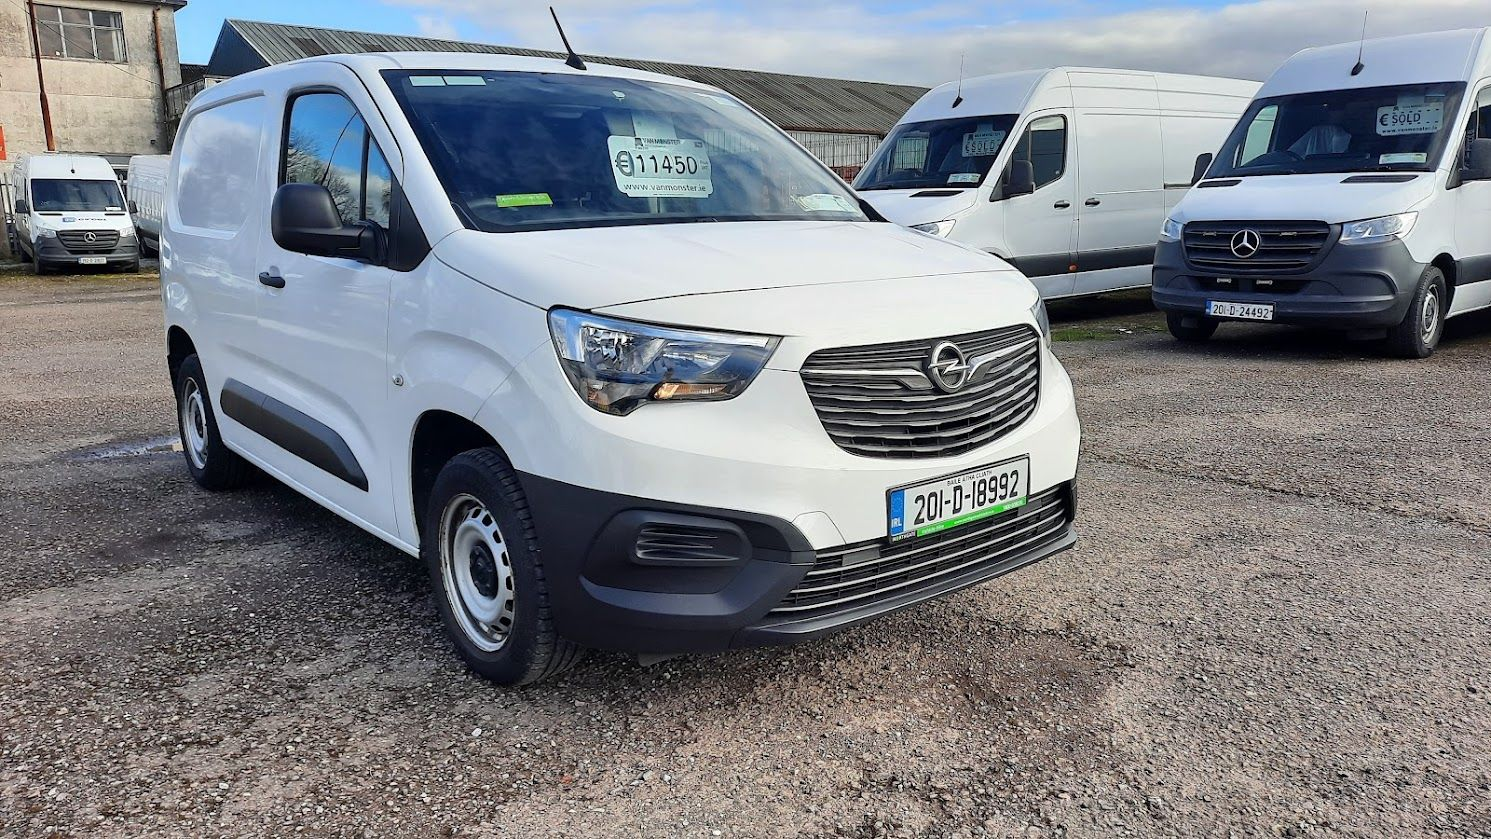car: (157, 46, 1089, 696), (1143, 24, 1491, 366), (7, 143, 143, 281)
